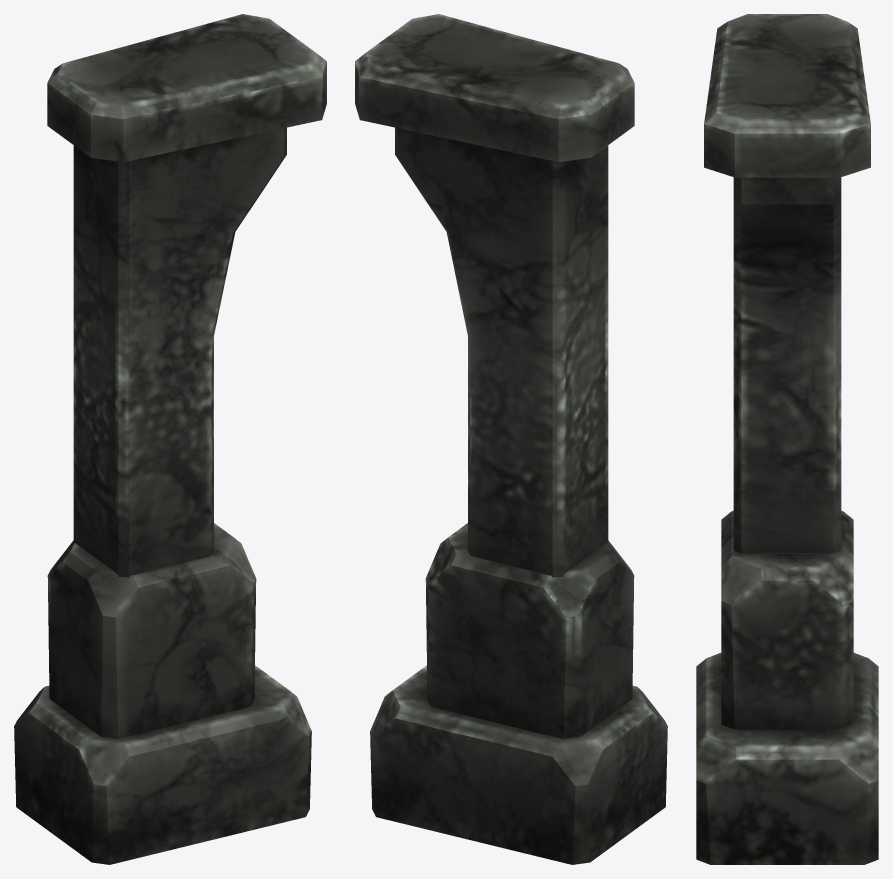
Rendered from SM_Dome_column.FBX.
3 views of the same model, side by side, from view 1: azimuth 30°, elevation 25°; view 2: azimuth 150°, elevation 25°; view 3: azimuth 270°, elevation 25° (orthographic).
Parts seen in each view (by area): view 1: SM_Dome_column; view 2: SM_Dome_column; view 3: SM_Dome_column.
Part boxes in pixels (x1=…): SM_Dome_column: x1=14, y1=14, x2=326, y2=864; SM_Dome_column: x1=355, y1=14, x2=667, y2=864; SM_Dome_column: x1=696, y1=14, x2=878, y2=864.
Bounding box in the file's own units: 94.2 × 59.19 × 270.
